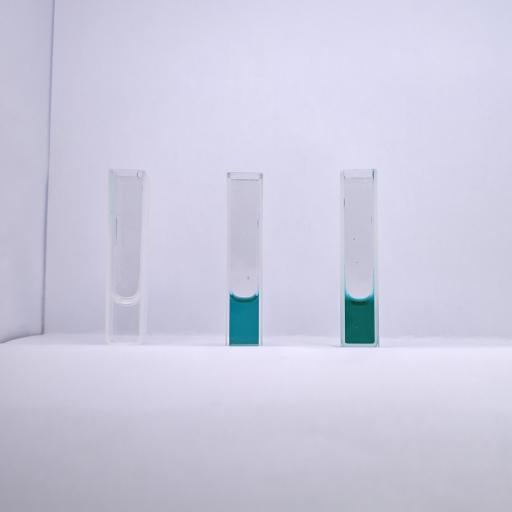cuvette: (104, 167, 148, 348), (338, 167, 381, 349), (224, 170, 265, 349)
liquid: (344, 294, 374, 344), (230, 292, 258, 344), (110, 300, 139, 341)
